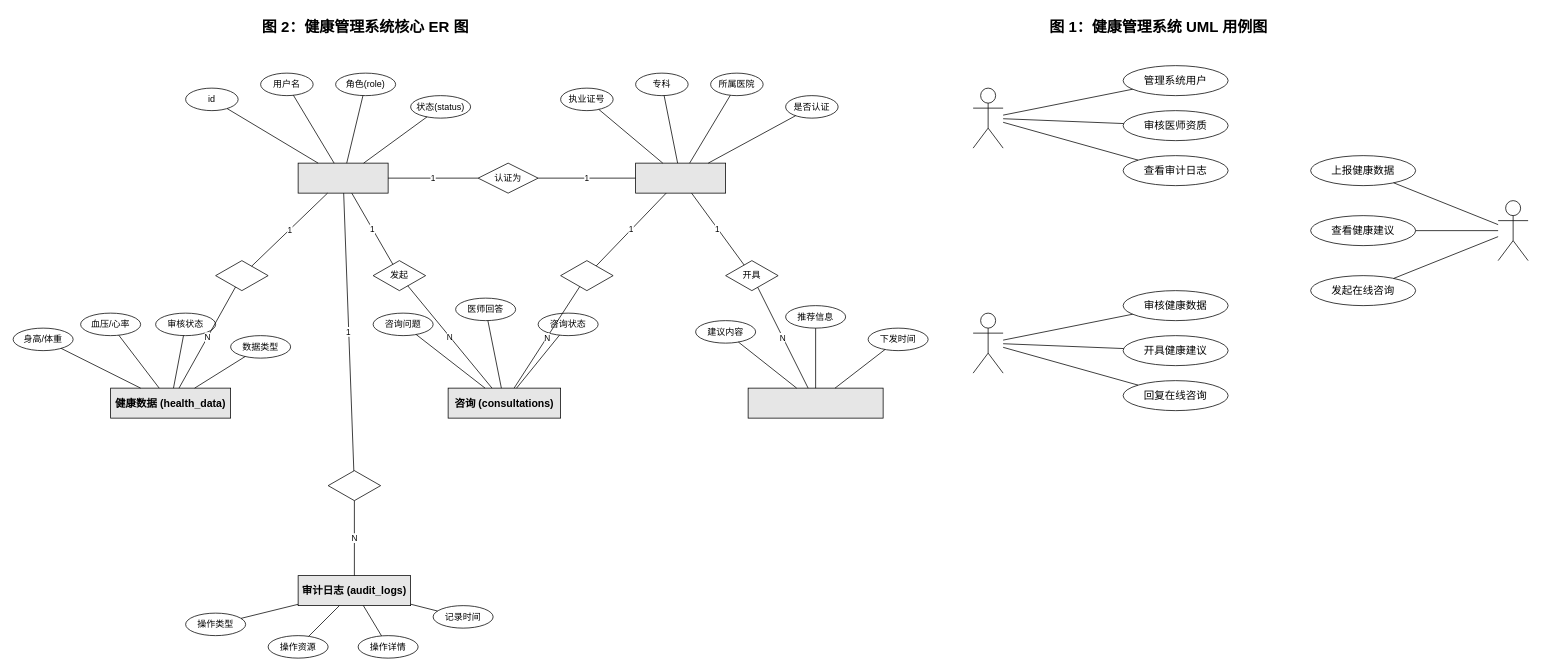
Image size: 1558x671. Some labels were removed from this diagram. The centre of each missing label's shape, as x and y in pixels:
上报: (x=241, y=275)
产生: (x=354, y=485)
健康建议 (health_advice): (x=815, y=402)
医师 (Doctor): (x=987, y=342)
医师 (doctors): (x=680, y=177)
普通用户 (User): (x=1512, y=230)
用户 (users): (x=342, y=177)
管理员 (Admin): (x=987, y=117)
解答: (x=586, y=275)
